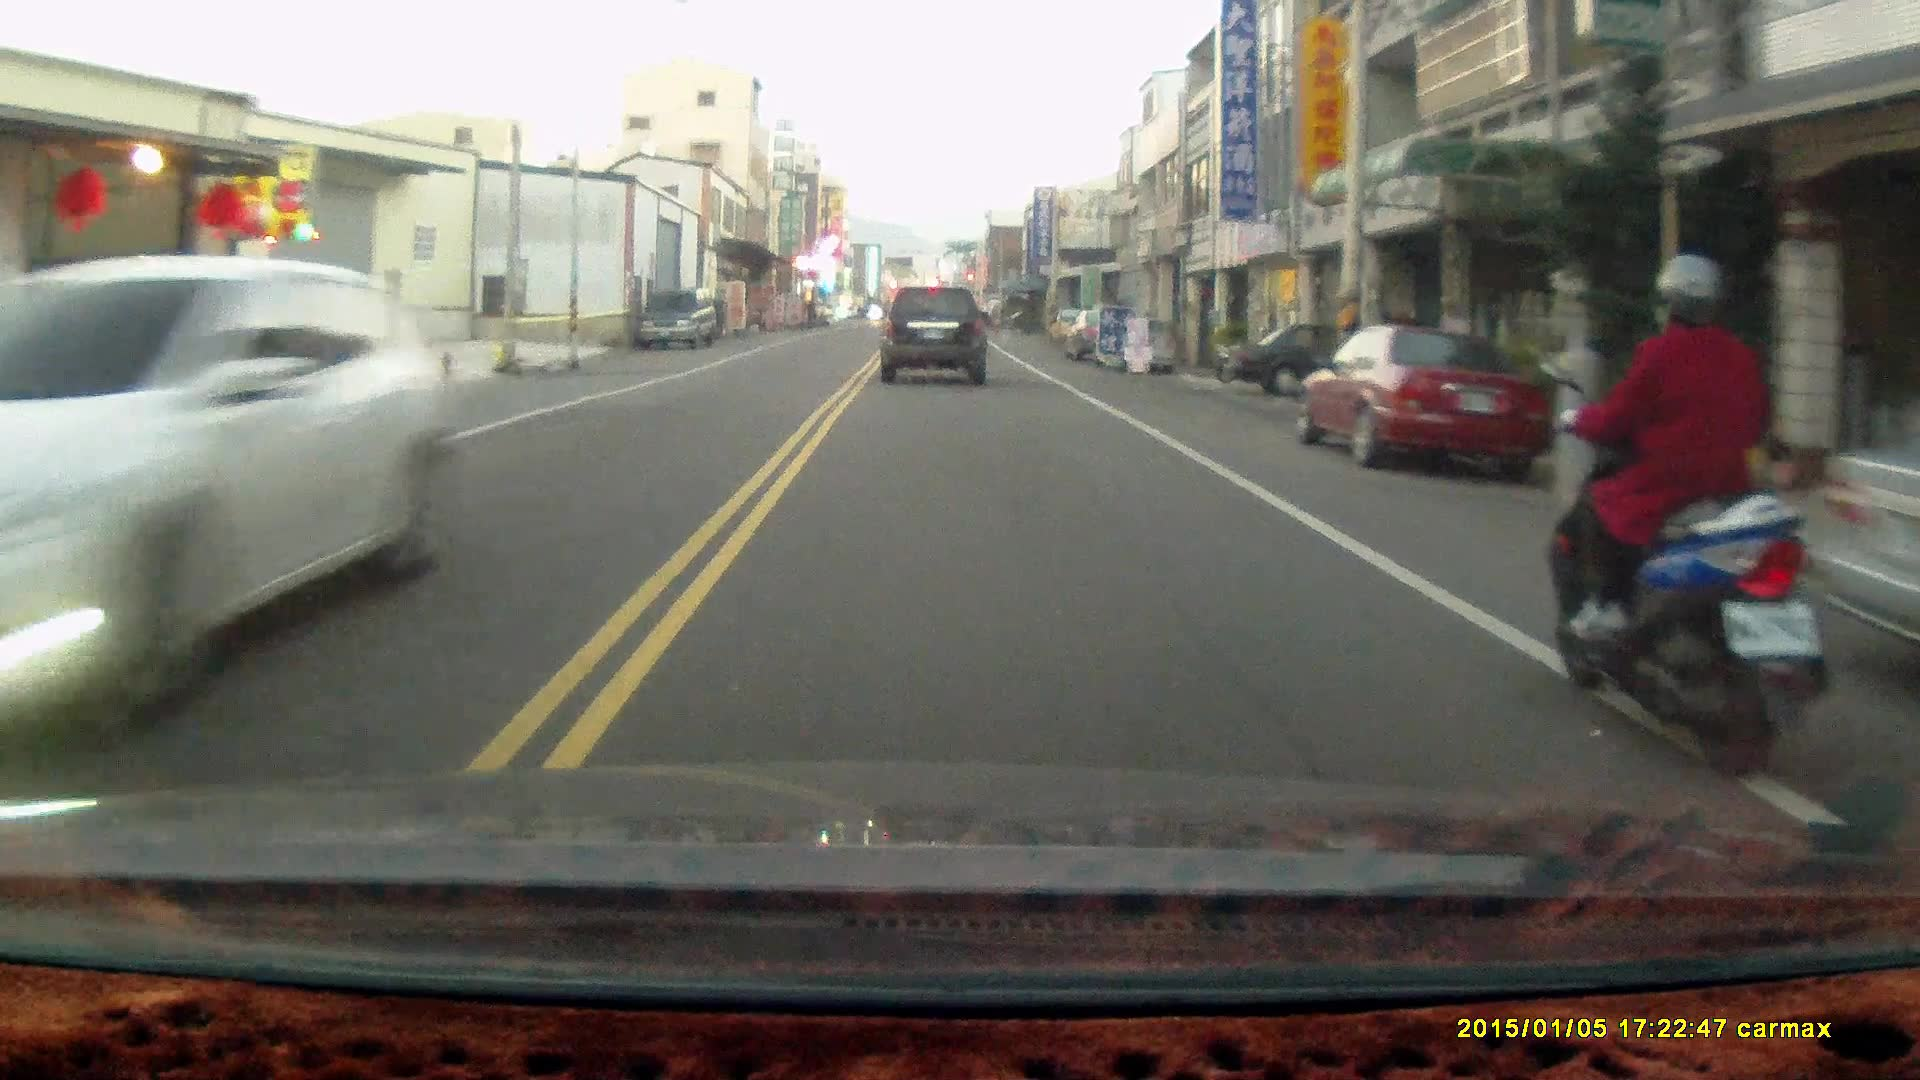rider: (1544, 243, 1835, 789)
vehicle: (1, 255, 457, 746), (1303, 316, 1554, 484), (1218, 322, 1433, 400), (881, 279, 990, 384), (637, 288, 721, 352)
